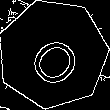O_NE: (20, 21, 87, 87)
